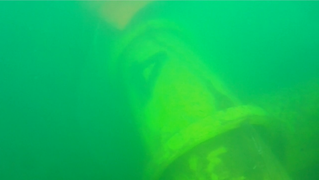4: (128, 51, 168, 110)
leak: (93, 1, 151, 32)
pipe: (106, 17, 296, 180), (243, 82, 319, 175)
